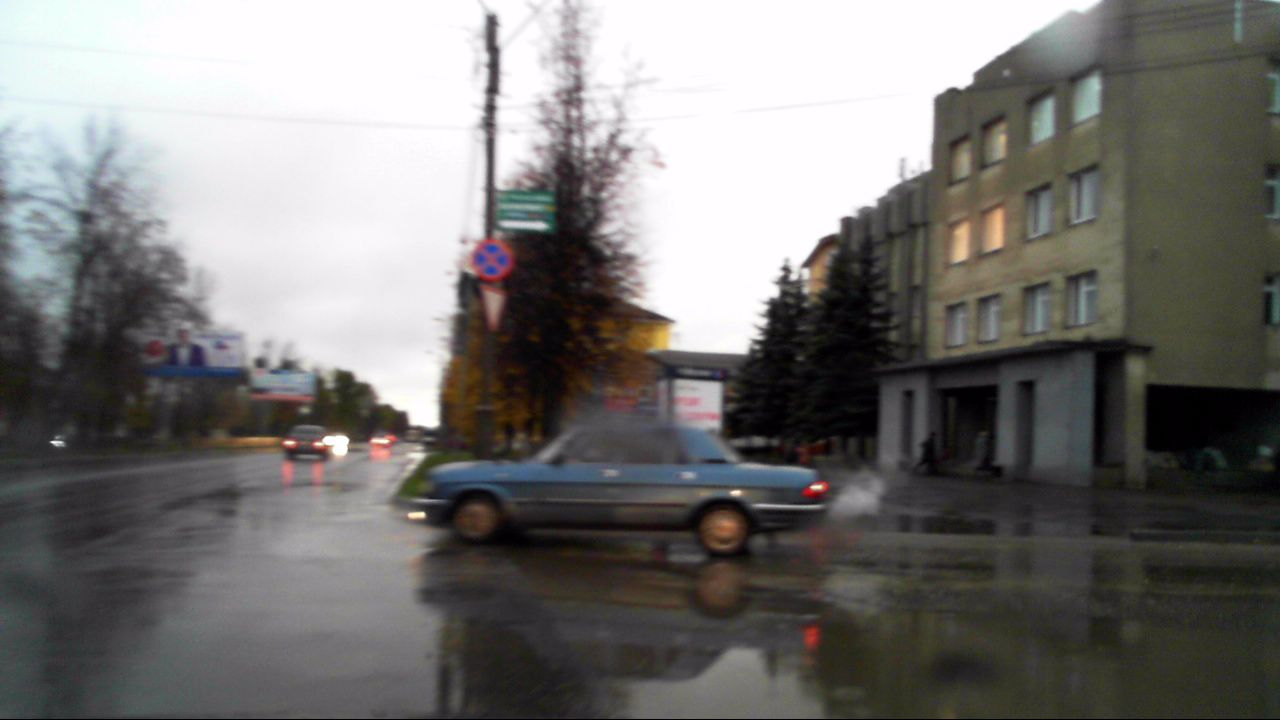No Parking: (471, 238, 512, 282)
